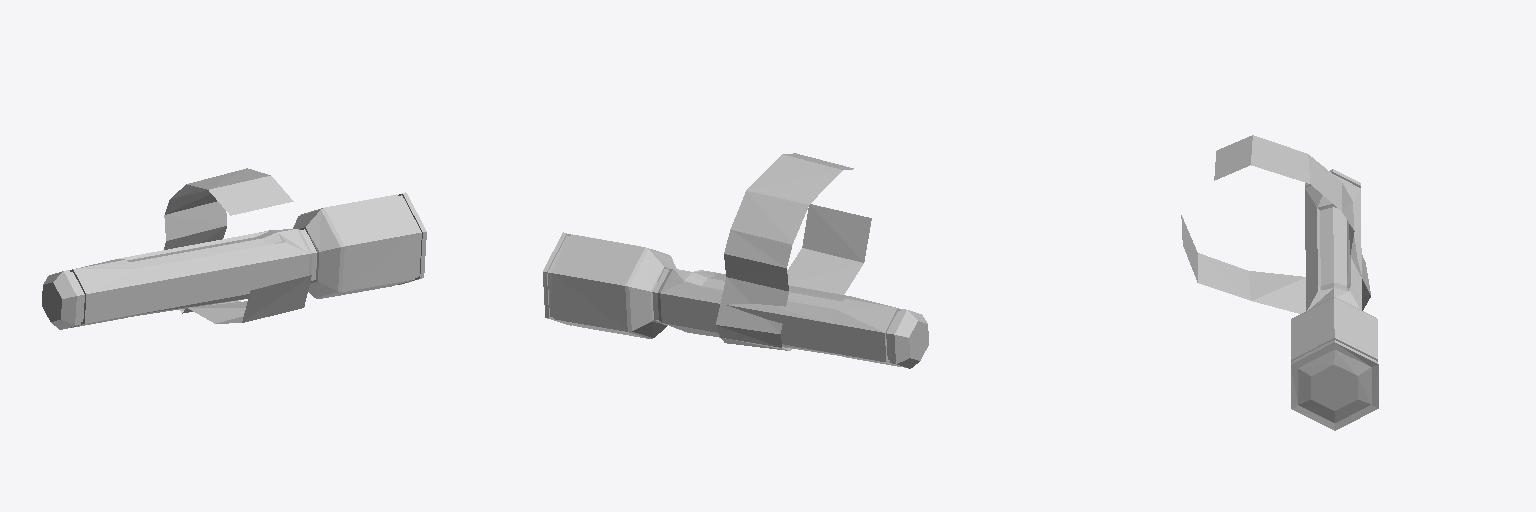
Rendered from mp5_flashlight.obj.
3 renders of one model, left to right at view 1: azimuth 30°, elevation 25°; view 2: azimuth 150°, elevation 25°; view 3: azimuth 270°, elevation 25°, orthographic.
Parts seen in each view (by area): view 1: attachmentModel; view 2: attachmentModel; view 3: attachmentModel.
Part boxes in pixels (left/top/right/bottom): attachmentModel: left=42, top=168, right=426, bottom=329; attachmentModel: left=543, top=153, right=928, bottom=368; attachmentModel: left=1181, top=135, right=1378, bottom=430.
Bounding box in the file's own units: 3.41 × 1.66 × 1.63.